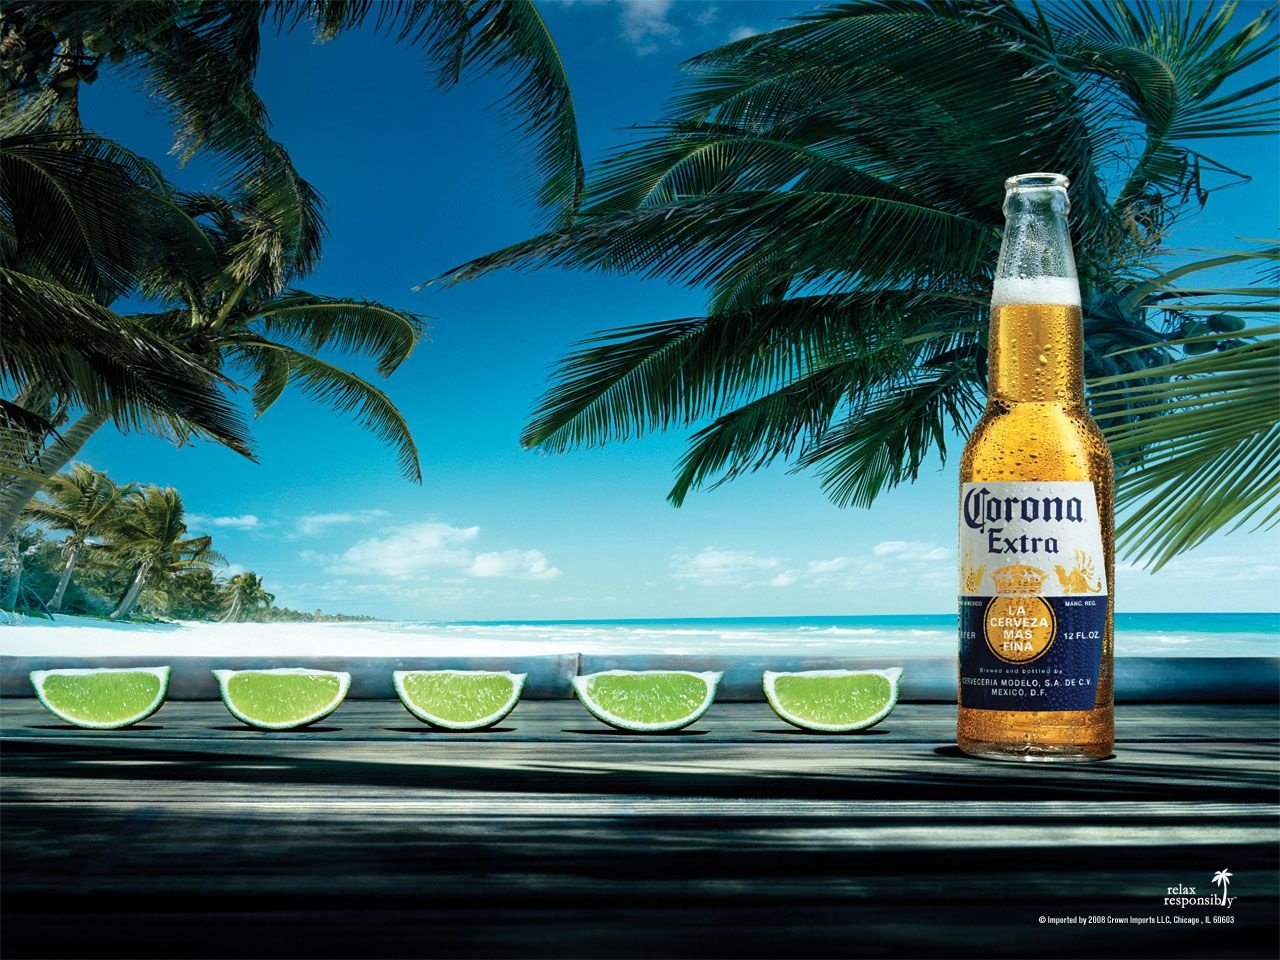beerBottle: (955, 168, 1123, 767)
